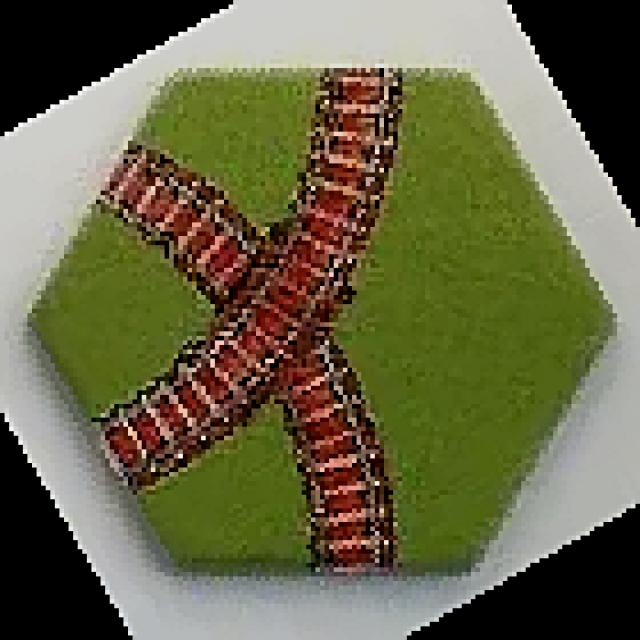7_5: (23, 66, 622, 582)
